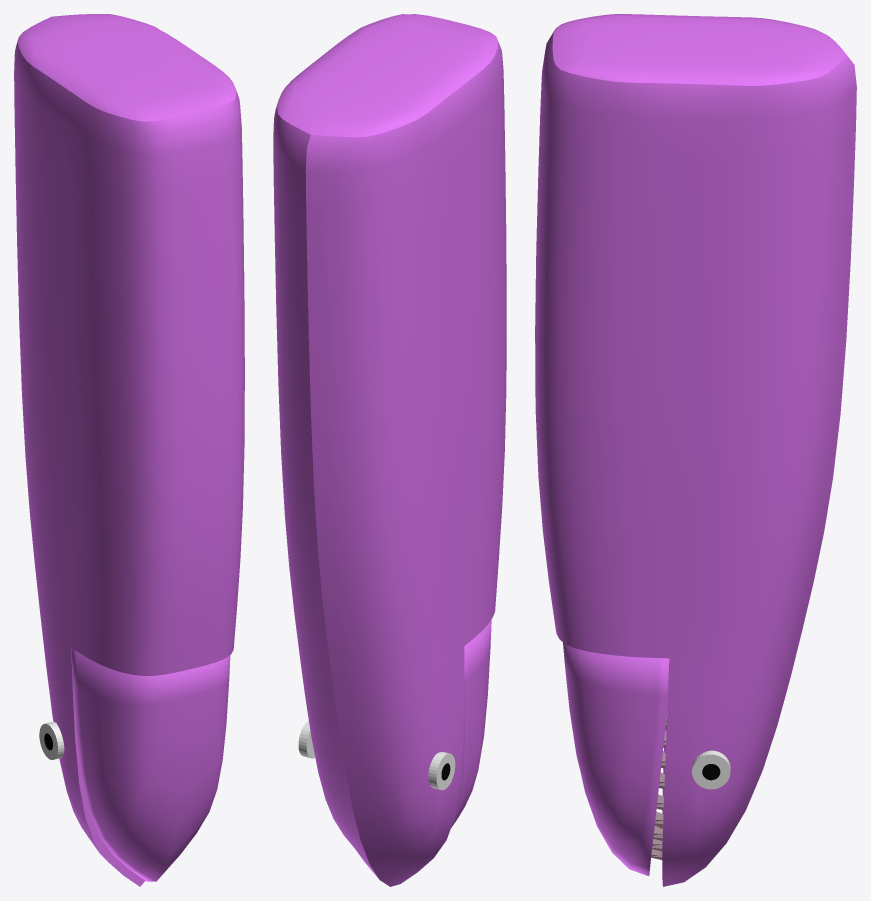
The model's file is Eel.fbx.
3 views of the same model, side by side, from view 1: azimuth 30°, elevation 25°; view 2: azimuth 150°, elevation 25°; view 3: azimuth 270°, elevation 25° (orthographic). The views are drawn at different scales.
Parts seen in each view (by area): view 1: Eel, JawBottom, EyeLeft; view 2: Eel, JawBottom, EyeLeft; view 3: Eel, JawBottom, EyeRight.
Part boxes in pixels (x1,y1,x2,y2): Eel: (14, 14, 244, 886); JawBottom: (71, 648, 230, 881); EyeLeft: (39, 721, 64, 759); Eel: (273, 14, 506, 886); JawBottom: (451, 620, 491, 827); EyeLeft: (428, 752, 455, 790); Eel: (535, 14, 856, 886); JawBottom: (563, 642, 669, 876); EyeRight: (692, 750, 730, 789).
Size of the model in its own units: 892 by 4840 by 1671.
